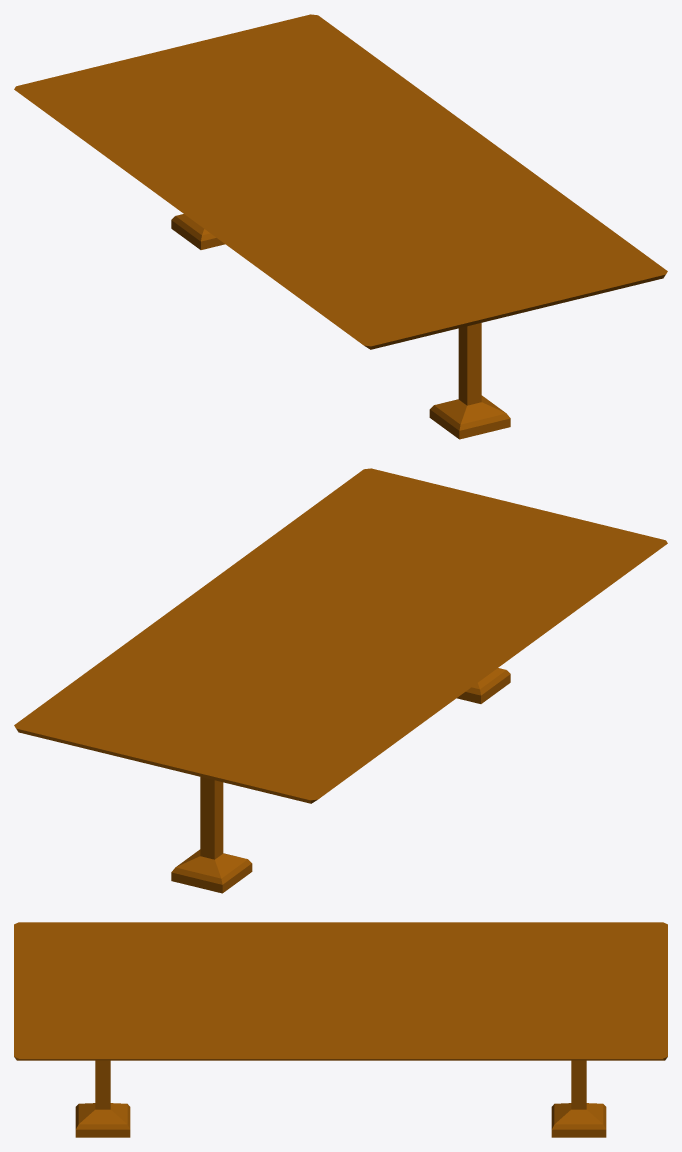
File: Table_Long.fbx
3 renders of one model, top to bottom at view 1: azimuth 30°, elevation 25°; view 2: azimuth 150°, elevation 25°; view 3: azimuth 270°, elevation 25°, orthographic. The views are drawn at different scales.
Visible parts, largest first — view 1: Long Table; view 2: Long Table; view 3: Long Table.
Part boxes in pixels (<box>): Long Table: <box>14,14,667,439</box>; Long Table: <box>14,468,667,893</box>; Long Table: <box>14,922,667,1137</box>.
Bounding box in the file's own units: 3.19 × 1.48 × 6.45.
